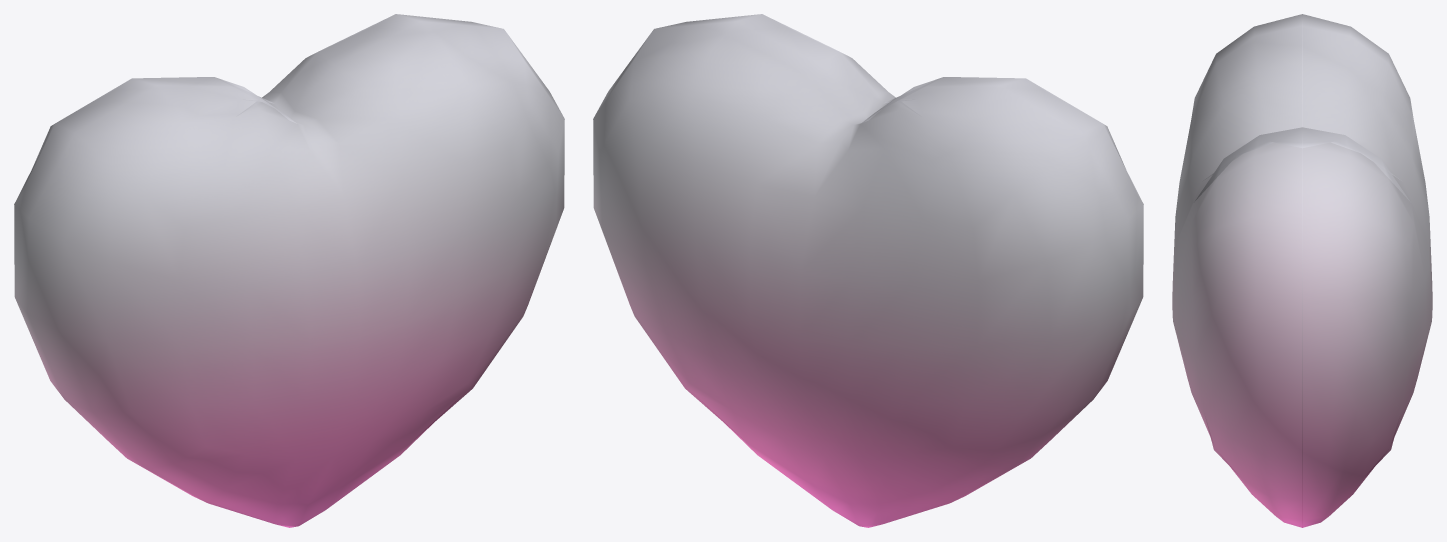
Rendered from heart_life.FBX.
3 renders of one model, left to right at view 1: azimuth 30°, elevation 25°; view 2: azimuth 150°, elevation 25°; view 3: azimuth 270°, elevation 25°, orthographic. The views are drawn at different scales.
Visible parts, largest first — view 1: Vert; view 2: Vert; view 3: Vert.
Boxes of the visible parts, x1,y1,x2,y2 form: Vert: (14, 14, 564, 527); Vert: (593, 14, 1143, 527); Vert: (1172, 14, 1432, 527).
Size of the model in its own units: 22.65 by 19.58 by 10.46.
